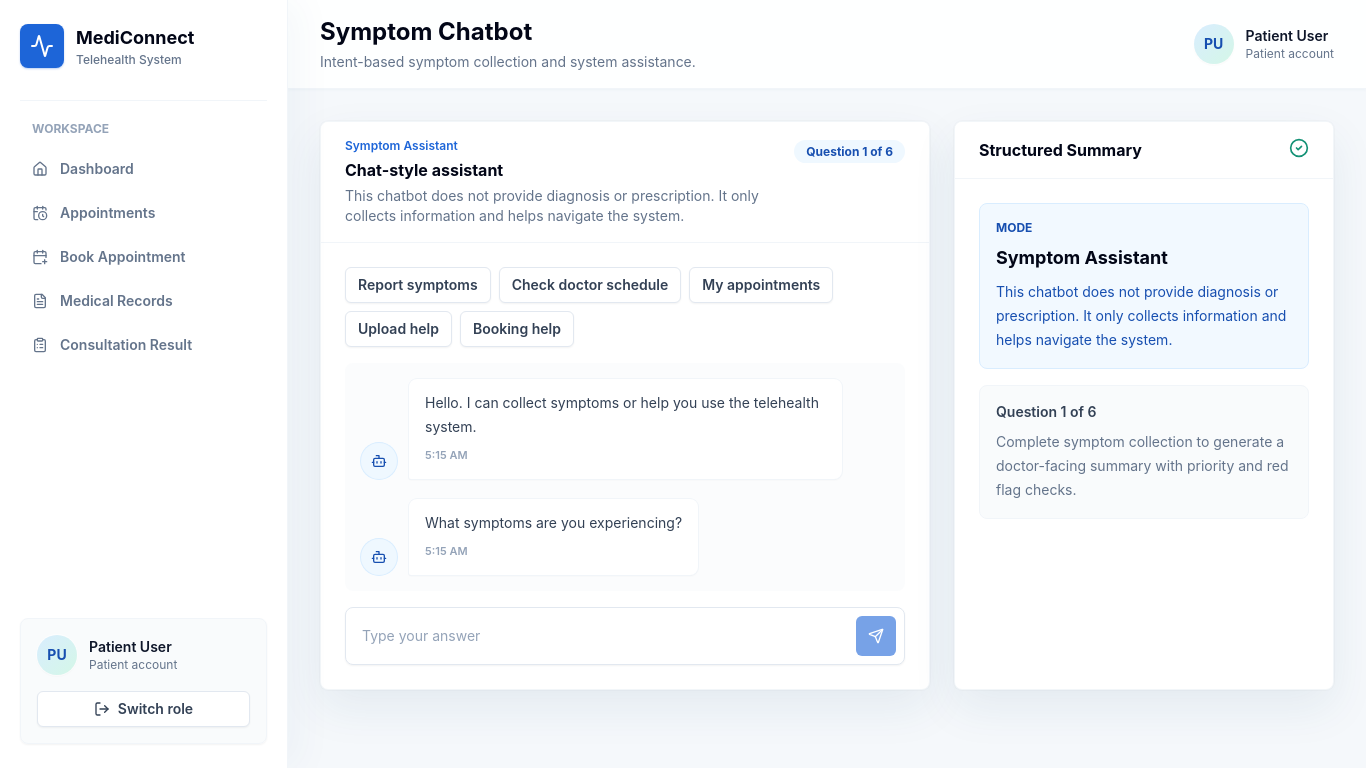
Telehealth frontend routes › answers doctor schedule inquiries from real backend APIs
Type "Which doctors are available today?" into the field with placeholder "Type your answer" at (599, 636), box [354,616,844,656]
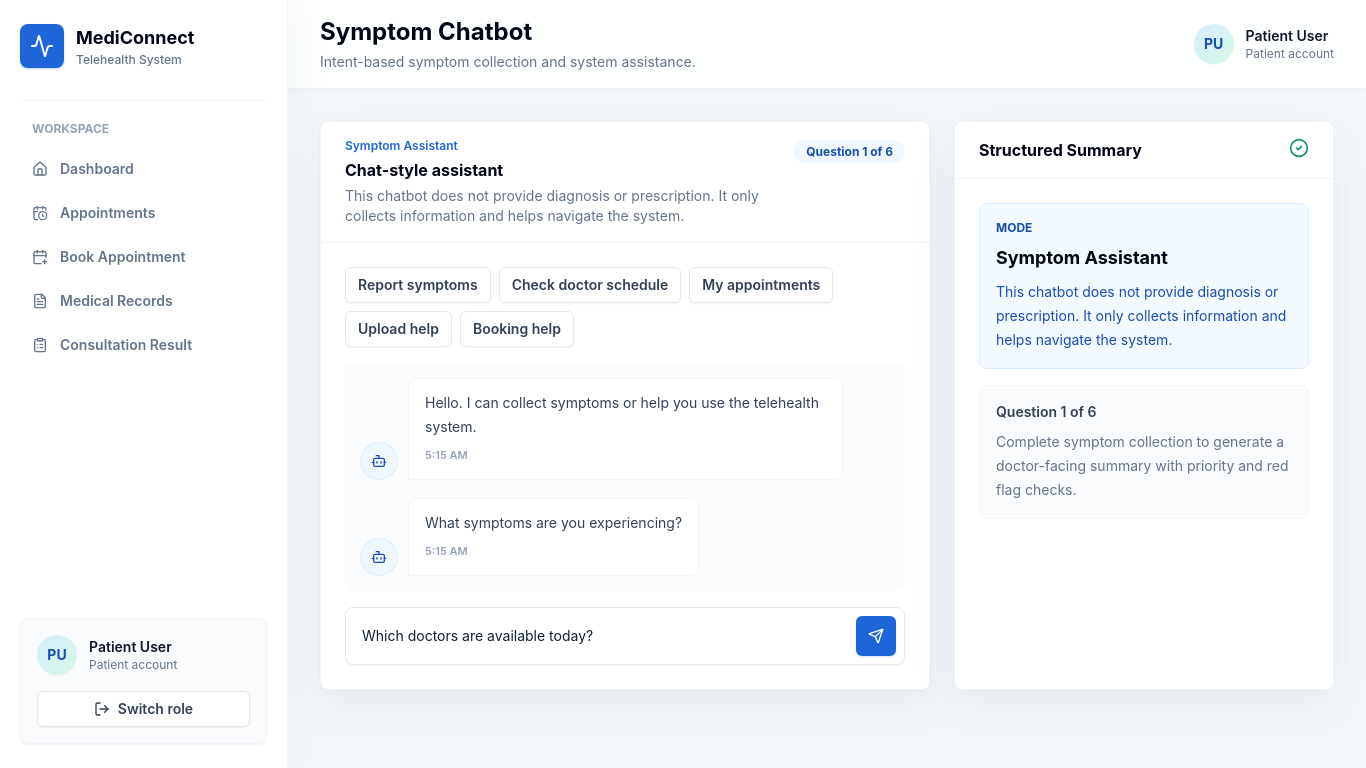
Click the button named "send answer" at (876, 636), box [856,616,896,656]
(page scrolled)
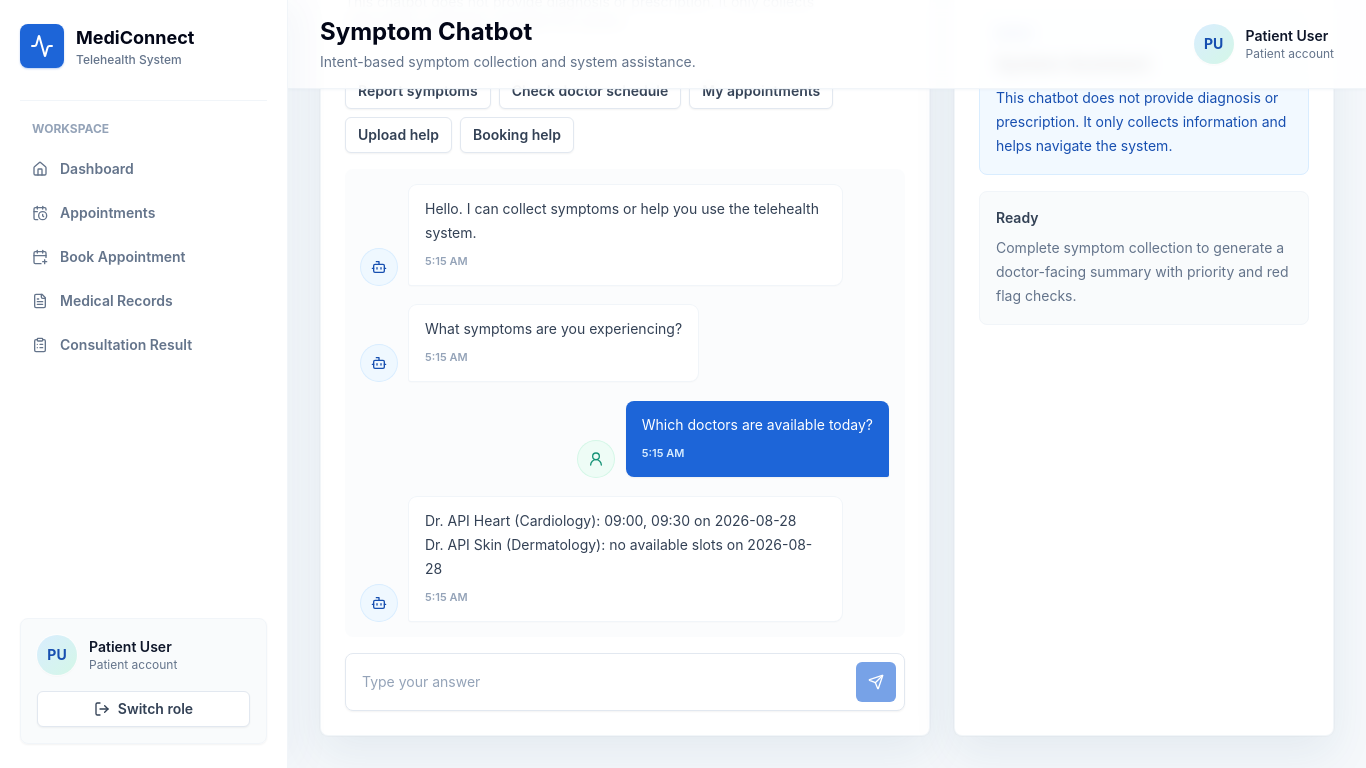
Expected: the text "09:00" is shown, [425,512,812,577]
